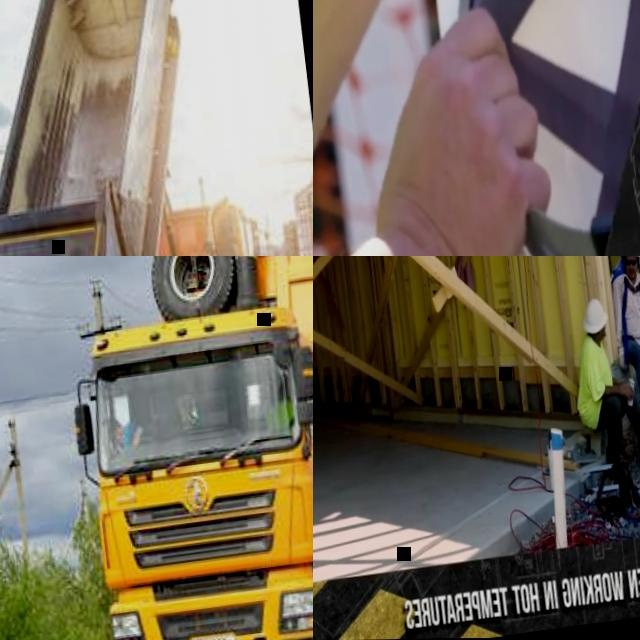Hardhat: (408, 0, 640, 256), (581, 294, 608, 336)
NO-Mask: (624, 268, 638, 283), (599, 330, 607, 340)
NO-Safety Vest: (578, 339, 616, 411), (615, 276, 640, 343)
Person: (313, 0, 598, 256), (563, 288, 640, 515), (603, 256, 640, 439), (102, 408, 150, 453), (259, 381, 297, 435)
Safety Vest: (262, 397, 297, 435), (113, 420, 141, 450)
machinery: (42, 256, 313, 640), (0, 0, 277, 256)
